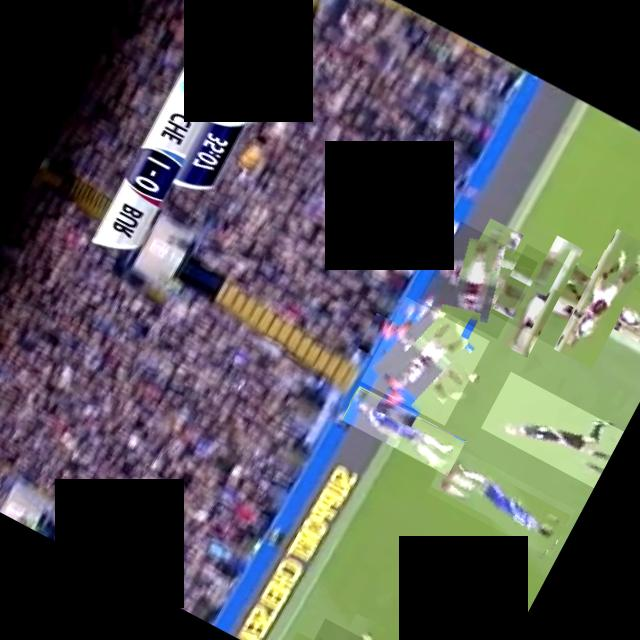referee: (481, 370, 624, 487)
soccer-player: (426, 444, 575, 556), (360, 296, 490, 424), (419, 220, 538, 338), (542, 236, 640, 359), (342, 384, 466, 475), (489, 242, 594, 348), (419, 588, 518, 640), (296, 617, 397, 640)
